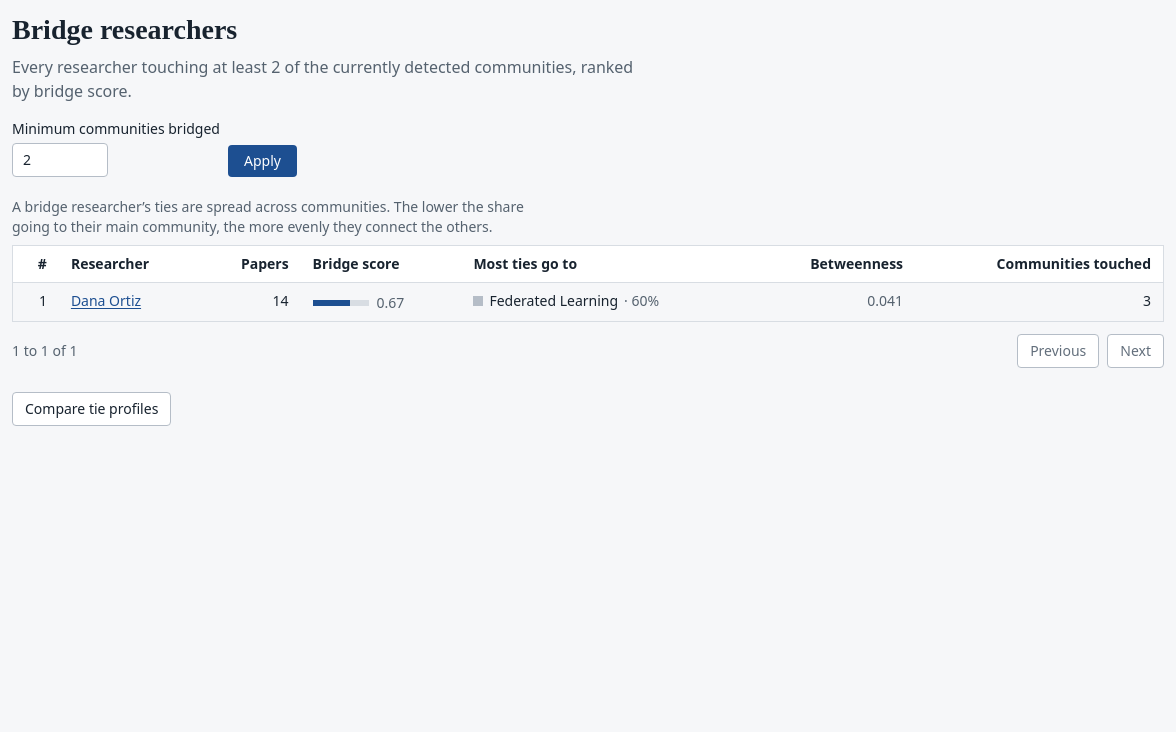
Scenario: BridgesBoard › lists researchers with bridge score, betweenness, communities touched, and the tie-profile figure
Expected: the text "0.67" is shown, [377,293,404,313]
Expected: the text "Every researcher touching at least 2" is shown, [12,56,633,102]
Click the button "Compare tie profiles" at (92, 409), box [12,392,171,426]
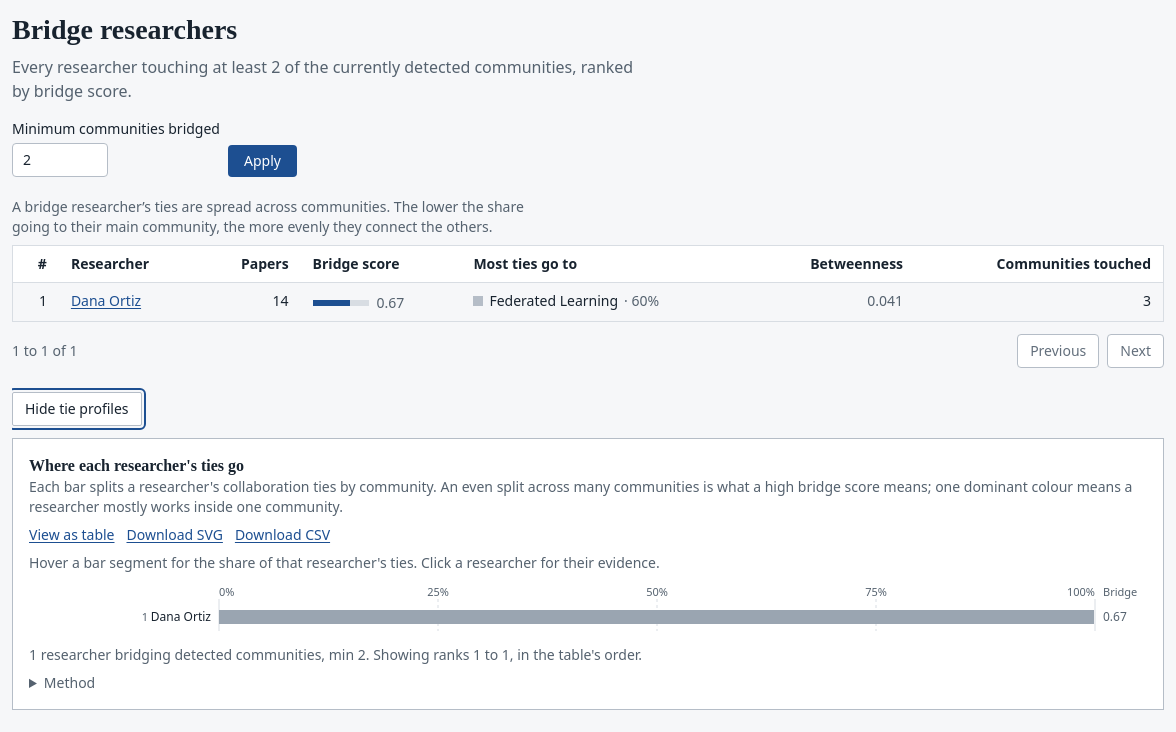
Expected: the button "1. Dana Ortiz, bridge score 0.67: 60% Federated Learning" is shown, [29,605,1147,629]
Now the heading "Where each researcher's ties go" is shown, box [29,457,244,474]
